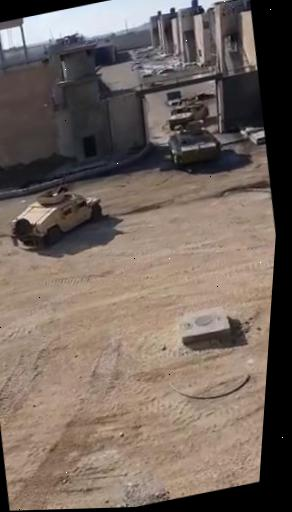armored_car: (2, 179, 107, 254), (162, 93, 212, 131)
tank: (163, 121, 224, 169)
